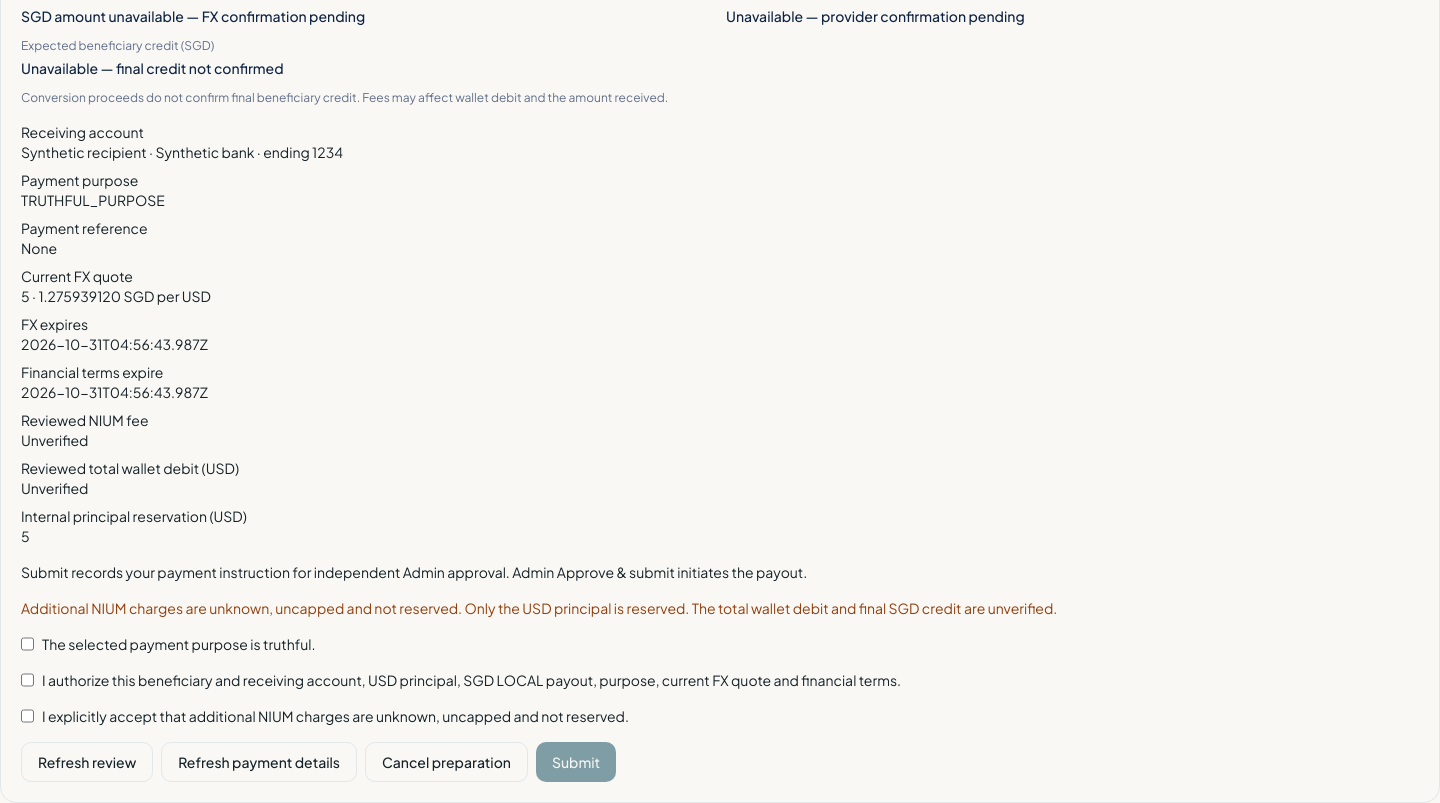
Test: SGD LOCAL Review → Submit › holds an ambiguous Submit for a status refresh without retrying automatically
The width and height of the screenshot is (1440, 803).
(page scrolled)
What coordinates should you click on to do the following:
click the checkbox labelled "The selected payment purpose is truthful."
I would click on:
 (28, 644)
Its box is [21,634,34,654].
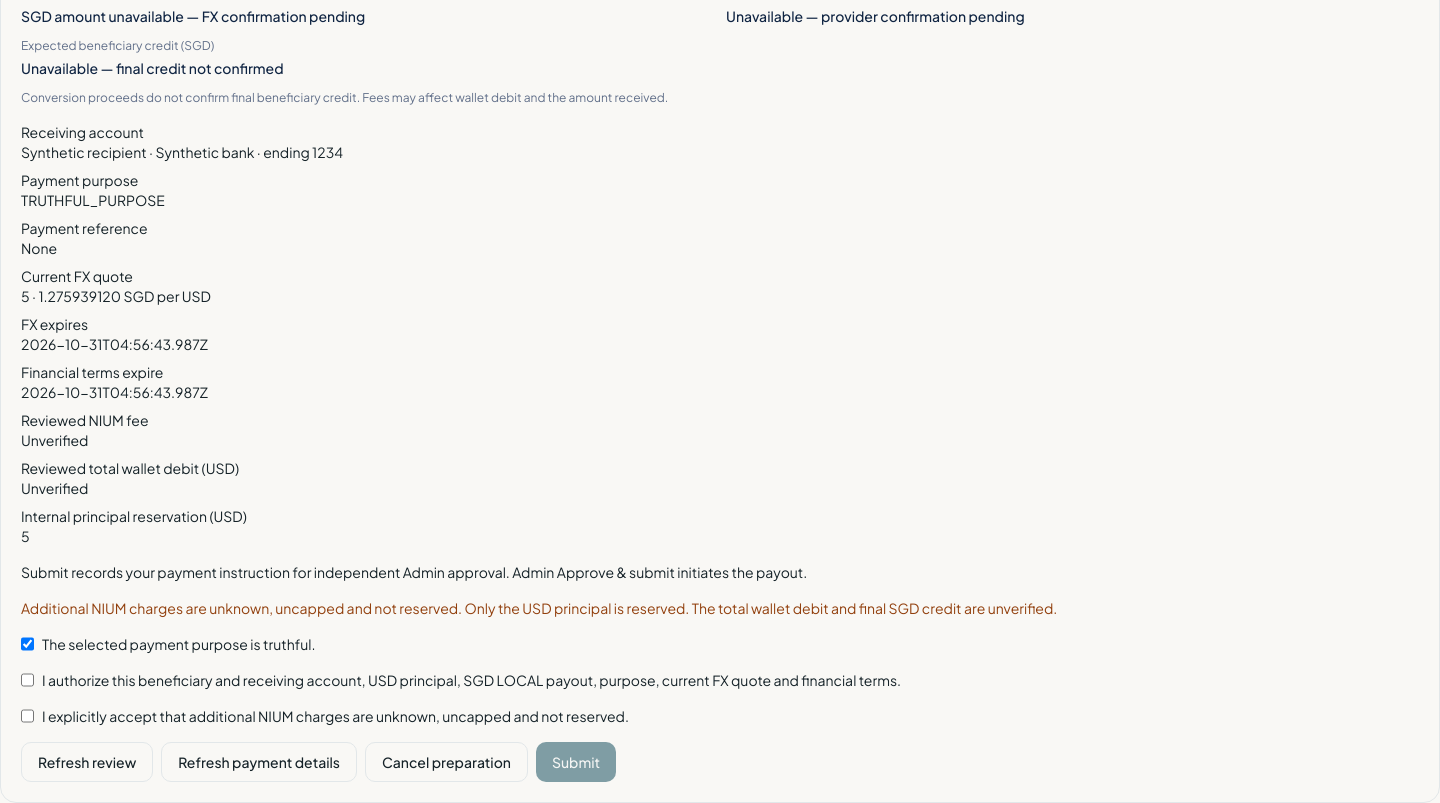
What coordinates should you click on to do the following:
click the checkbox labelled "I authorize this beneficiary"
I would click on:
 (28, 680)
Its box is [21,670,34,690].
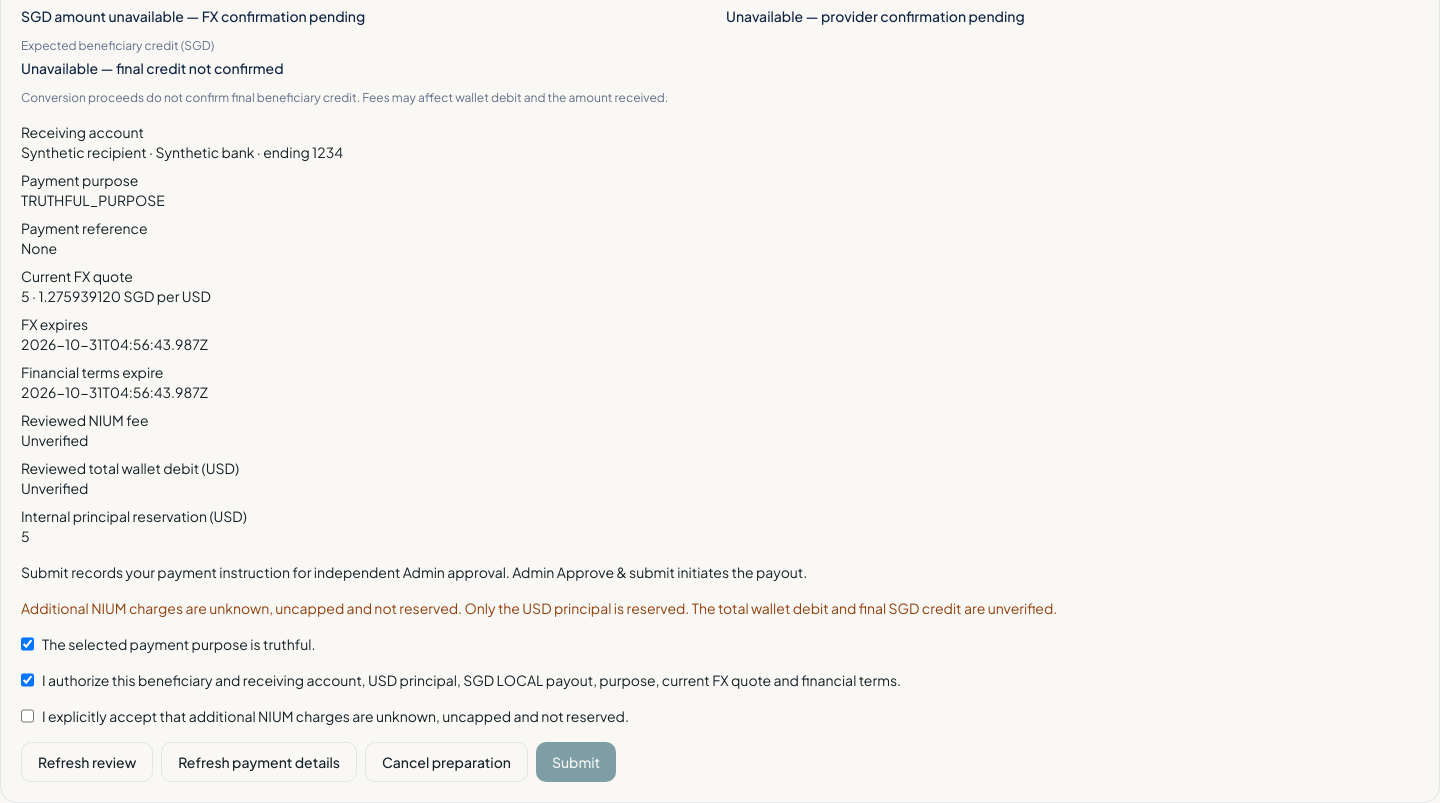
What coordinates should you click on to do the following:
click the checkbox labelled "I explicitly accept"
I would click on:
 (28, 716)
Its box is [21,706,34,726].
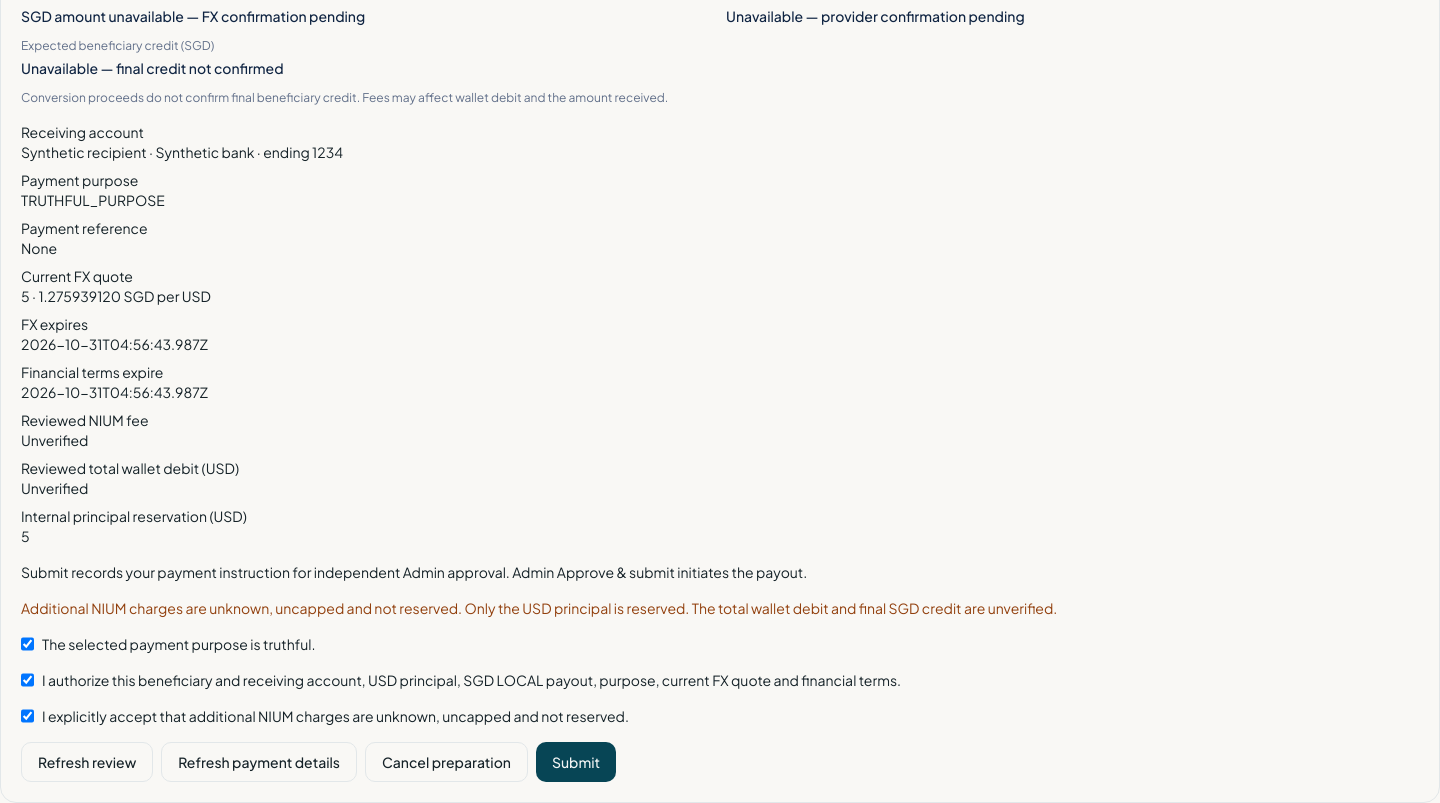
What coordinates should you click on to do the following:
click the button "Submit"
I would click on:
 (576, 762)
Its box is [536,742,616,782].
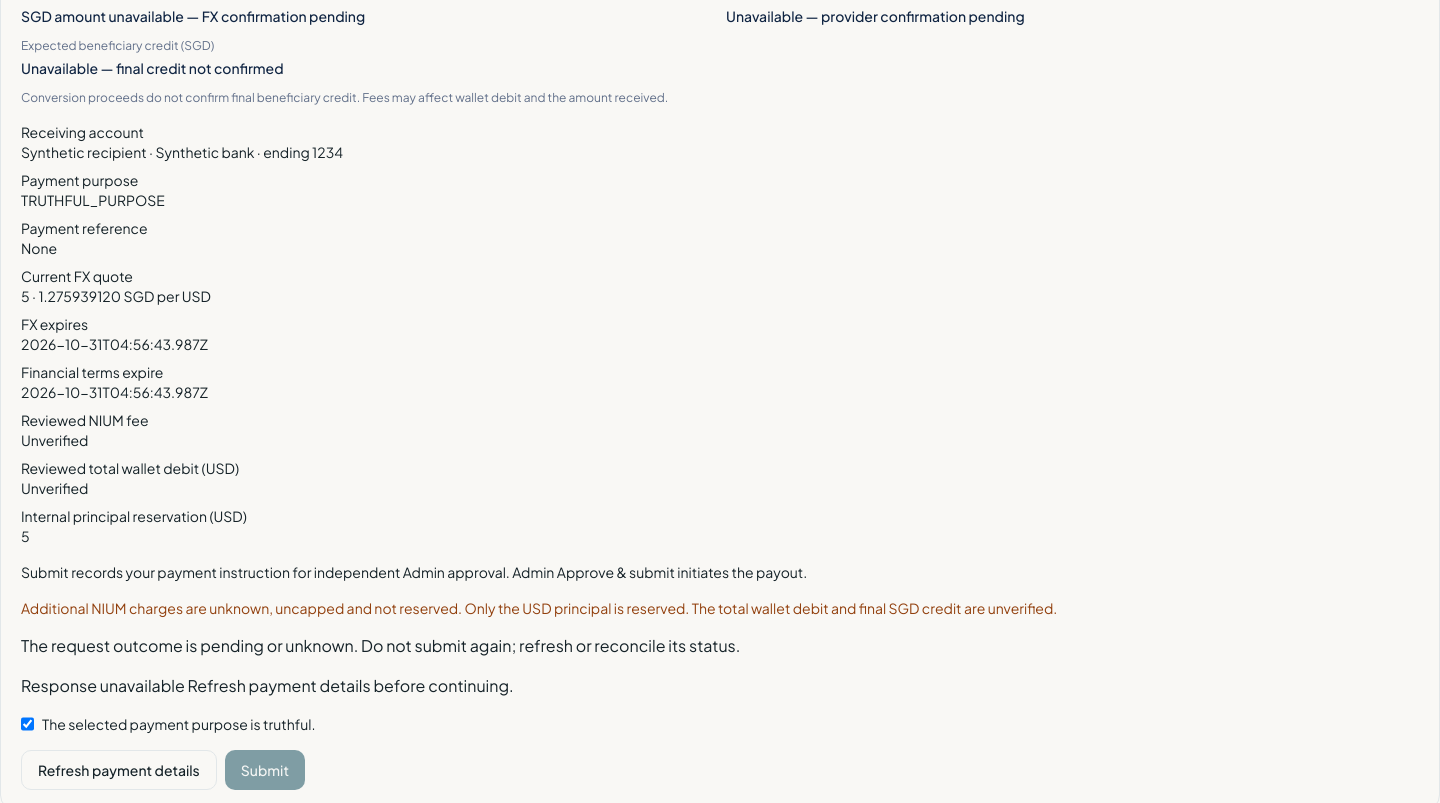
Expected: the message "Response unavailable Refresh payment details before continuing." is shown, [21,675,514,696]
Expected: the button "Submit" is disabled, [225,750,305,790]
